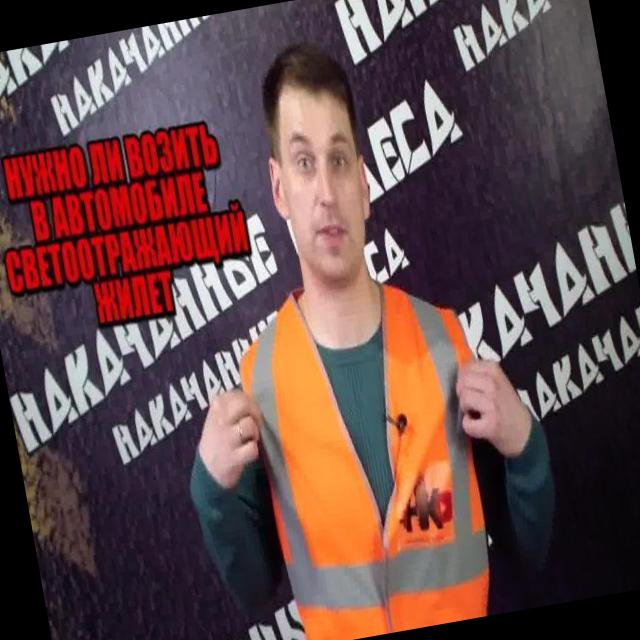safety_vest: (225, 283, 511, 640)
vehicle: (141, 30, 576, 640)
